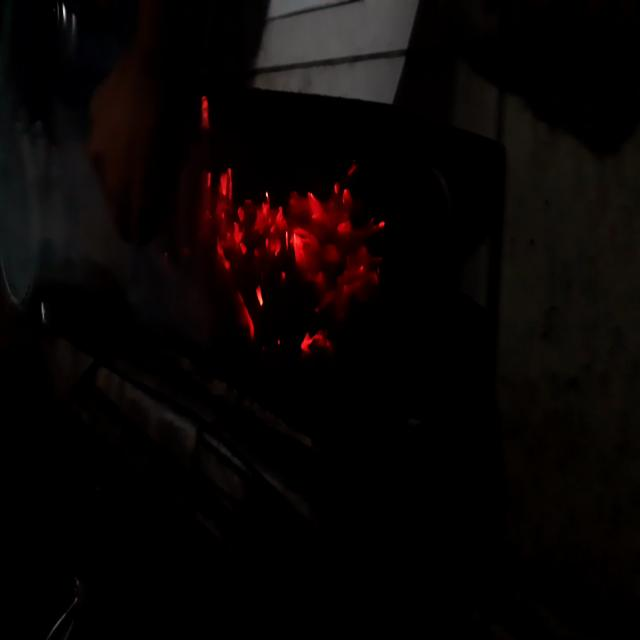Fire: (206, 126, 366, 326)
